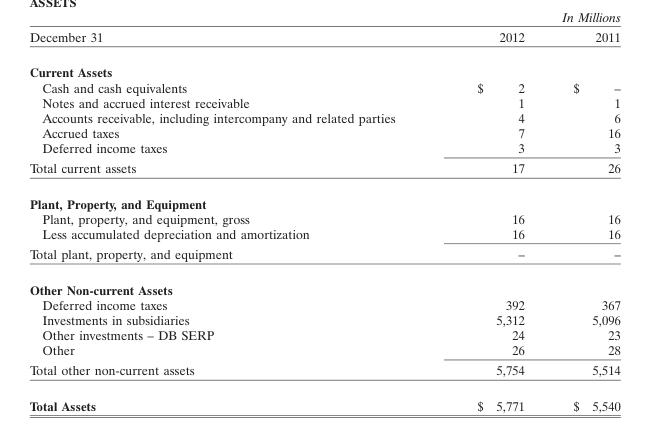table: (28, 28, 619, 412)
table column: (28, 28, 435, 412), (435, 28, 548, 412), (548, 28, 619, 412)
table column header: (28, 28, 619, 54)
table projected row header: (28, 54, 619, 79), (28, 185, 619, 210), (28, 271, 619, 296)
table row: (28, 157, 619, 185), (28, 243, 619, 271), (28, 359, 619, 387), (28, 28, 619, 54), (28, 54, 619, 79), (28, 185, 619, 210), (28, 271, 619, 296), (28, 387, 619, 412), (28, 225, 619, 243), (28, 140, 619, 157), (28, 342, 619, 359), (28, 124, 619, 140), (28, 326, 619, 342), (28, 79, 619, 94), (28, 94, 619, 109), (28, 109, 619, 124), (28, 210, 619, 225), (28, 296, 619, 311), (28, 311, 619, 326)
